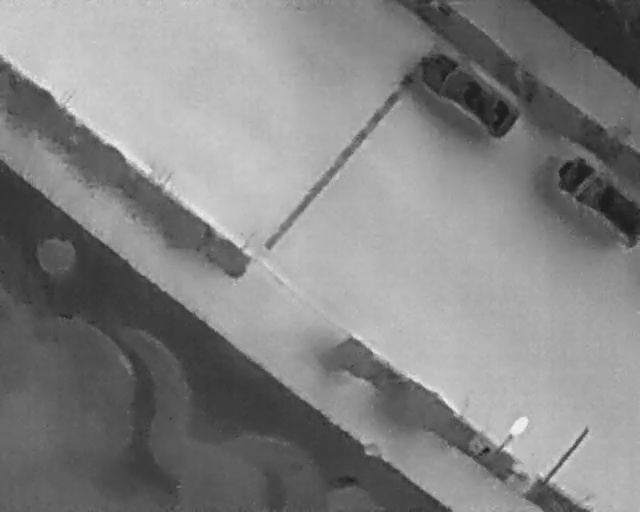Car: (410, 39, 530, 146), (556, 153, 639, 247)
